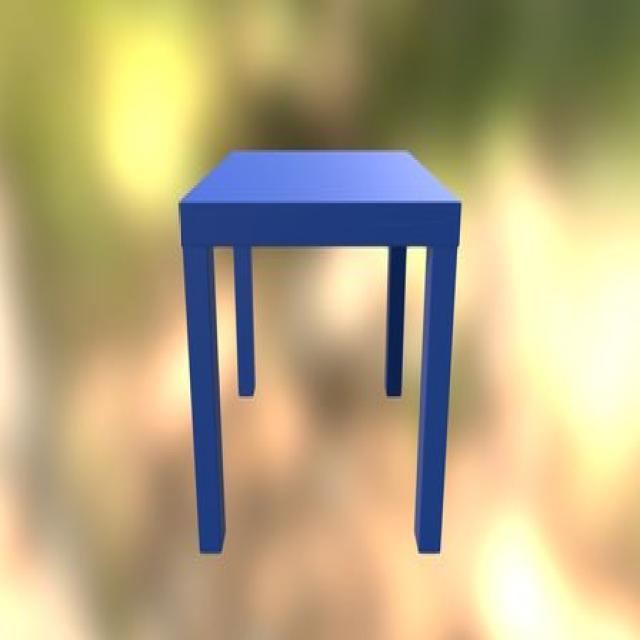table: (178, 151, 461, 559)
